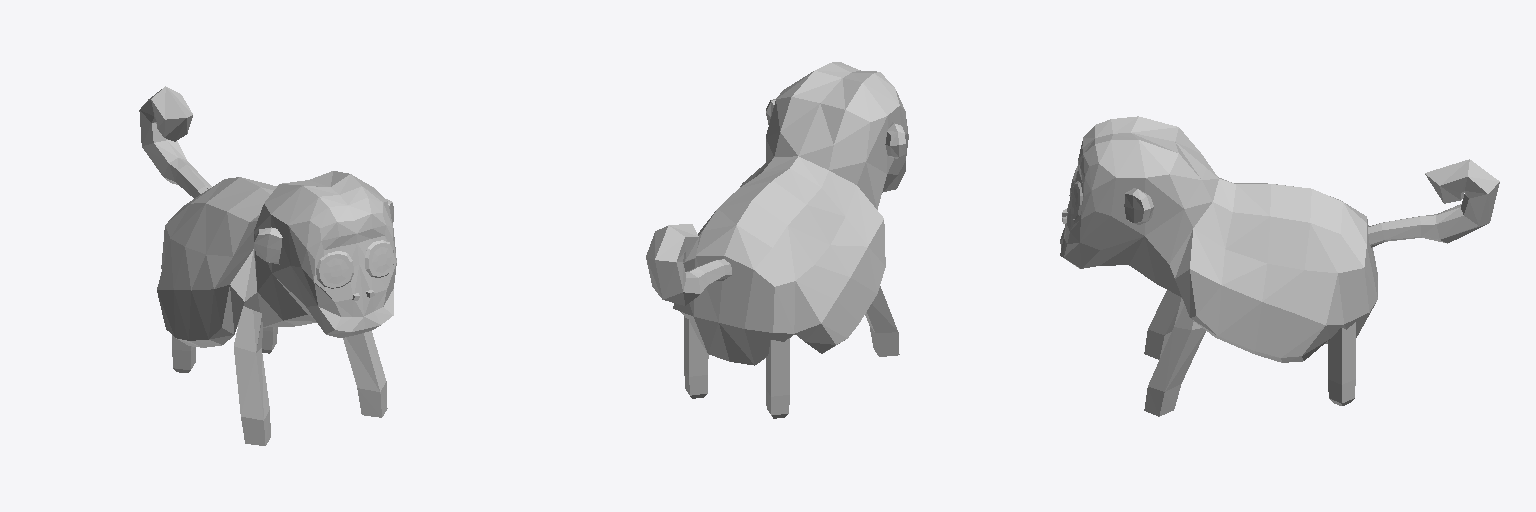
Rendered from Colobus_LOD2.obj.
3 renders of one model, left to right at view 1: azimuth 30°, elevation 25°; view 2: azimuth 150°, elevation 25°; view 3: azimuth 270°, elevation 25°, orthographic.
Parts seen in each view (by area): view 1: Mesh_Colobus_LOD2; view 2: Mesh_Colobus_LOD2; view 3: Mesh_Colobus_LOD2.
Boxes of the visible parts, box(x1,y1,x2,y2) form: Mesh_Colobus_LOD2: box(139, 86, 396, 445); Mesh_Colobus_LOD2: box(646, 62, 908, 418); Mesh_Colobus_LOD2: box(1060, 116, 1499, 416).
Bounding box in the file's own units: 0.5243 × 0.799 × 1.25.